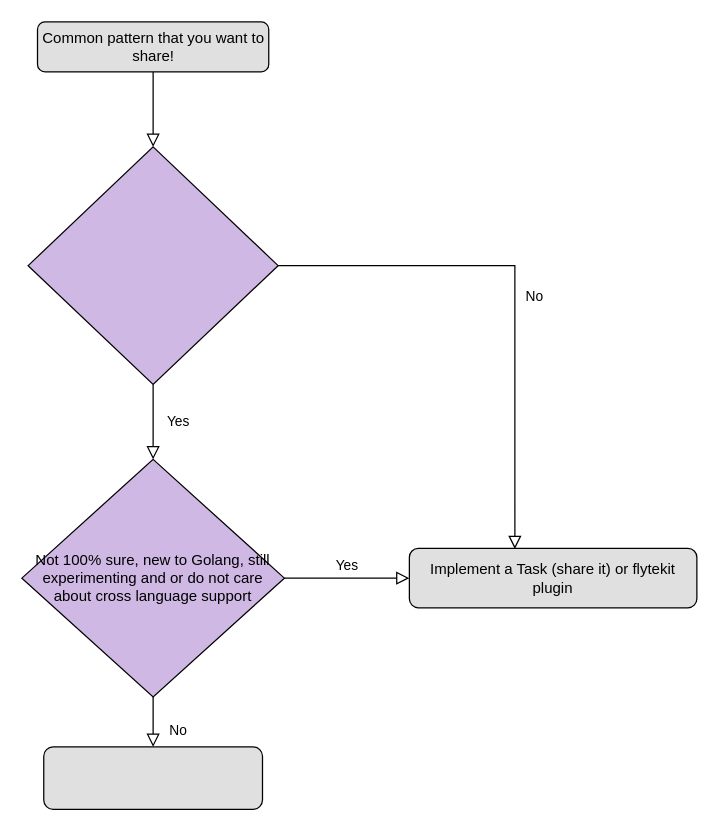
This 719x831 diagram has some shape labels left out. The centre of each missing label's shape, as x and y in pixels:
Remote Service (e.g. Snowflake etc), K8s execution (pods, k8s spark etc): (152,265)
Write a Flyte Backend Plugin: (152,777)
